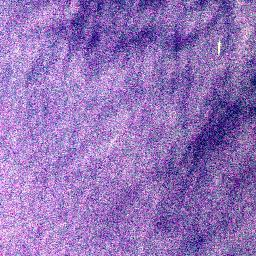Ship: (213, 38, 224, 57)
